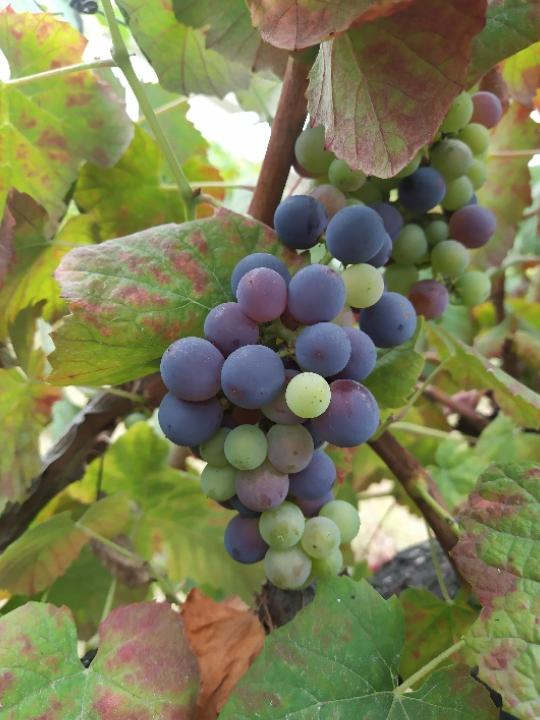grape: (154, 192, 422, 593)
